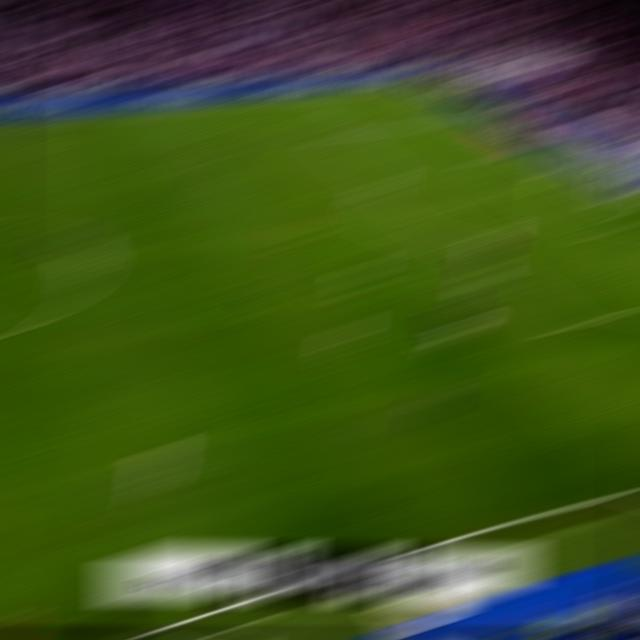bigarea_bottom_inner: (546, 316, 579, 335)
bigarea_top_inner: (316, 131, 346, 138)
bigarea_top_outter: (454, 112, 484, 119)
corner: (398, 83, 428, 86)
smallarea_bottom_inner: (584, 226, 614, 237)
smallarea_top_inner: (466, 154, 495, 159)
top_arc_area_intersection: (367, 174, 395, 179)
